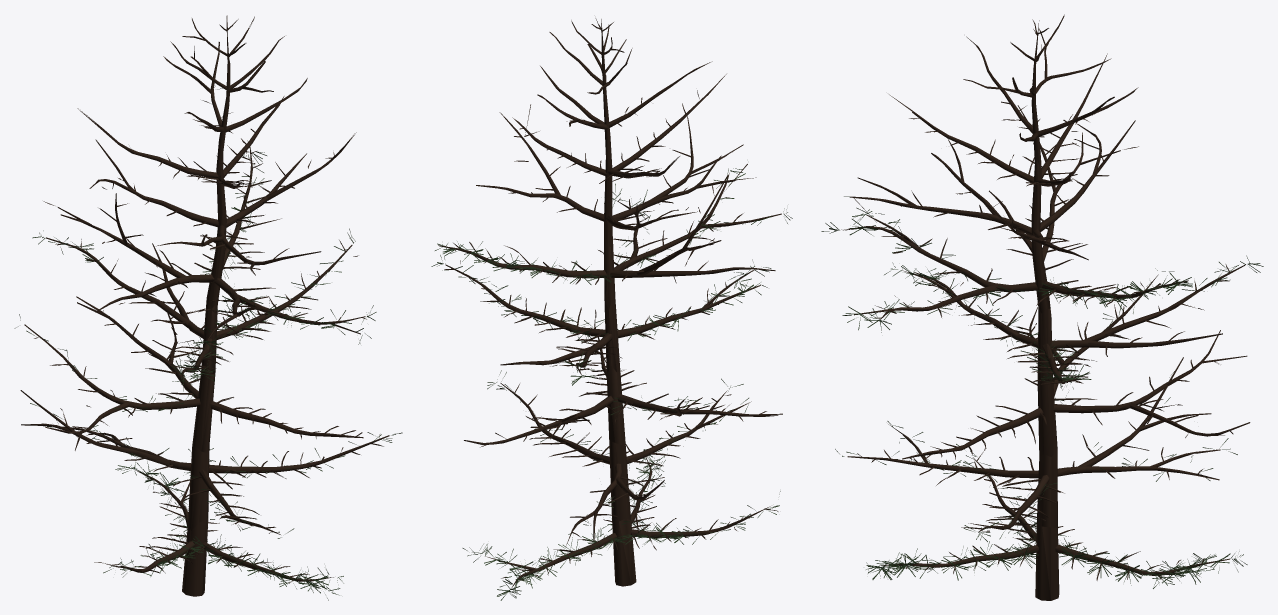
The model's file is pine.glb.
3 renders of one model, left to right at view 1: azimuth 30°, elevation 25°; view 2: azimuth 150°, elevation 25°; view 3: azimuth 270°, elevation 25°, orthographic. The views are drawn at different scales.
Parts seen in each view (by area): view 1: Kiefer_tree.006, leaves.006, object 3, object 4; view 2: Kiefer_tree.006, leaves.006, object 3, object 4; view 3: Kiefer_tree.006, object 3, leaves.006, object 4.
Part boxes in pixels (bbox=[...]): Kiefer_tree.006: bbox=[20, 15, 389, 596]; leaves.006: bbox=[32, 140, 376, 391]; object 3: bbox=[115, 448, 343, 600]; object 4: bbox=[14, 314, 402, 577]; Kiefer_tree.006: bbox=[438, 18, 782, 588]; leaves.006: bbox=[431, 168, 792, 385]; object 3: bbox=[462, 449, 694, 600]; object 4: bbox=[487, 370, 780, 549]; Kiefer_tree.006: bbox=[841, 14, 1250, 600]; object 3: bbox=[866, 510, 1247, 588]; leaves.006: bbox=[821, 196, 1263, 390]; object 4: bbox=[835, 268, 1237, 541].
Bounding box in the file's own units: 0.6929 × 1.14 × 0.7741.
